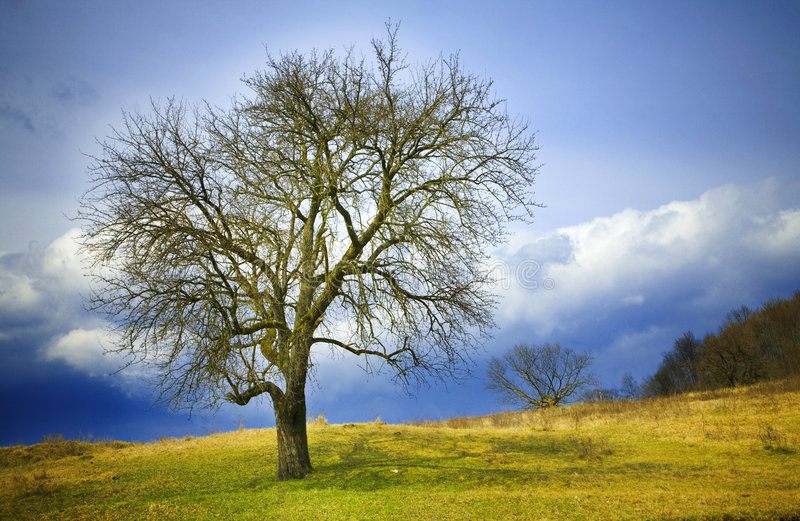tree: (60, 14, 548, 480)
